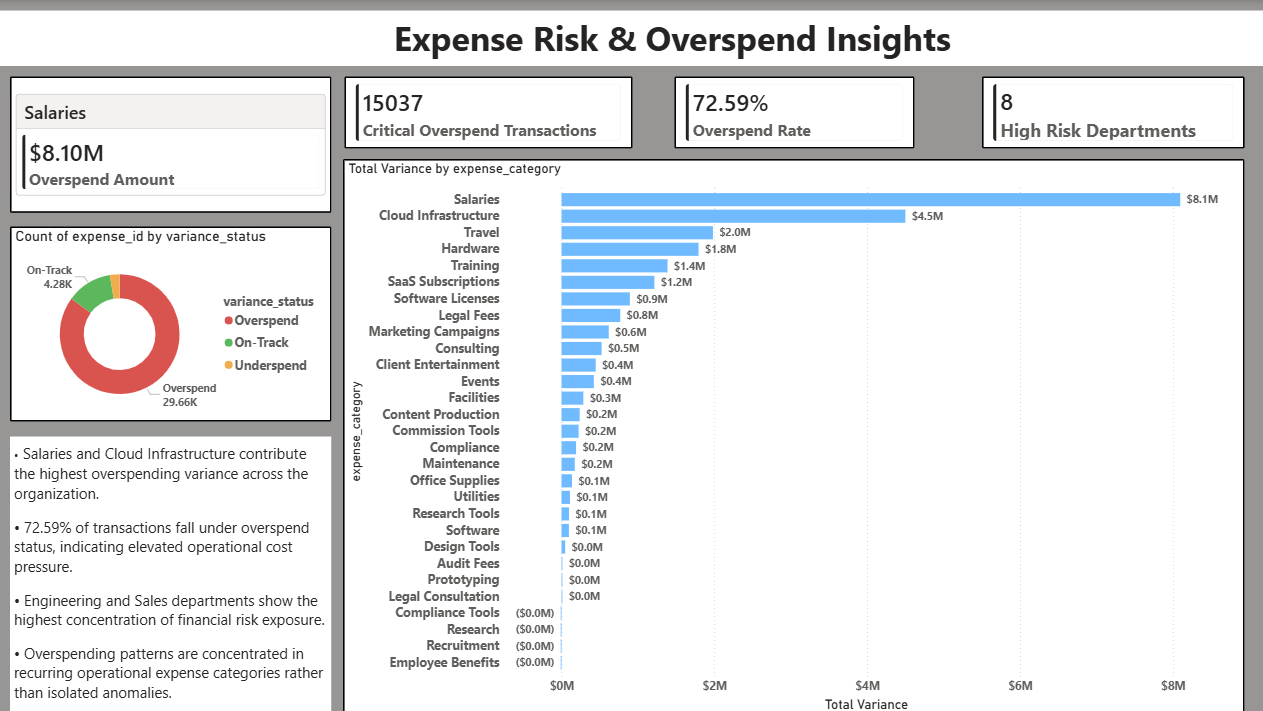

Layout of this report page (visuals, bound fields, positions):
{"tool":"powerbi","page":{"name":"Page 3","canvas":[1600,900],"ordinal":2},"visuals":[{"type":"textbox","box":[0,13.7,1599.4,81.9],"z":0},{"type":"cardVisual","fields":{"Data":["expense_analysis expense_data.Total Variance"],"Rows":["expense_analysis expense_data.expense_category"]},"box":[15.6,119,403.7,181.4],"z":1000},{"type":"cardVisual","fields":{"Data":["expense_analysis expense_data.Critical Overspend Transactions"]},"box":[434.9,119,364.7,124.8],"z":2000},{"type":"cardVisual","fields":{"Data":["expense_analysis expense_data.Avg Variance Per Transaction"]},"box":[866,119,304.3,124.8],"z":3000},{"type":"cardVisual","fields":{"Data":["expense_analysis expense_data.High Risk Departments"]},"box":[1242.4,119,329.6,124.8],"z":4000},{"type":"clusteredBarChart","fields":{"Category":["expense_analysis expense_data.expense_category"],"Y":["expense_analysis expense_data.Total Variance"]},"box":[435.3,265,1137.5,410.7],"z":5000},{"type":"donutChart","fields":{"Y":["CountNonNull(expense_analysis expense_data.expense_id)"],"Category":["expense_analysis expense_data.variance_status"]},"box":[15.1,323.7,405,352.1],"z":6000},{"type":"textbox","box":[15.1,694.6,1555.8,179.8],"z":6001}]}

Visuals, with their boxes in screenshot pixels (x1, y1, x2, y2), scaled from the page's 1600x900 canvas onto the 1263x711 screenshot:
textbox: box(0, 11, 1262, 76)
cardVisual - expense_analysis expense_data.Total Variance x expense_analysis expense_data.expense_category: box(12, 94, 331, 237)
cardVisual - expense_analysis expense_data.Critical Overspend Transactions: box(343, 94, 631, 193)
cardVisual - expense_analysis expense_data.Avg Variance Per Transaction: box(684, 94, 924, 193)
cardVisual - expense_analysis expense_data.High Risk Departments: box(981, 94, 1241, 193)
clusteredBarChart - expense_analysis expense_data.expense_category x expense_analysis expense_data.Total Variance: box(344, 209, 1242, 534)
donutChart - CountNonNull(expense_analysis expense_data.expense_id) x expense_analysis expense_data.variance_status: box(12, 256, 332, 534)
textbox: box(12, 549, 1240, 691)
